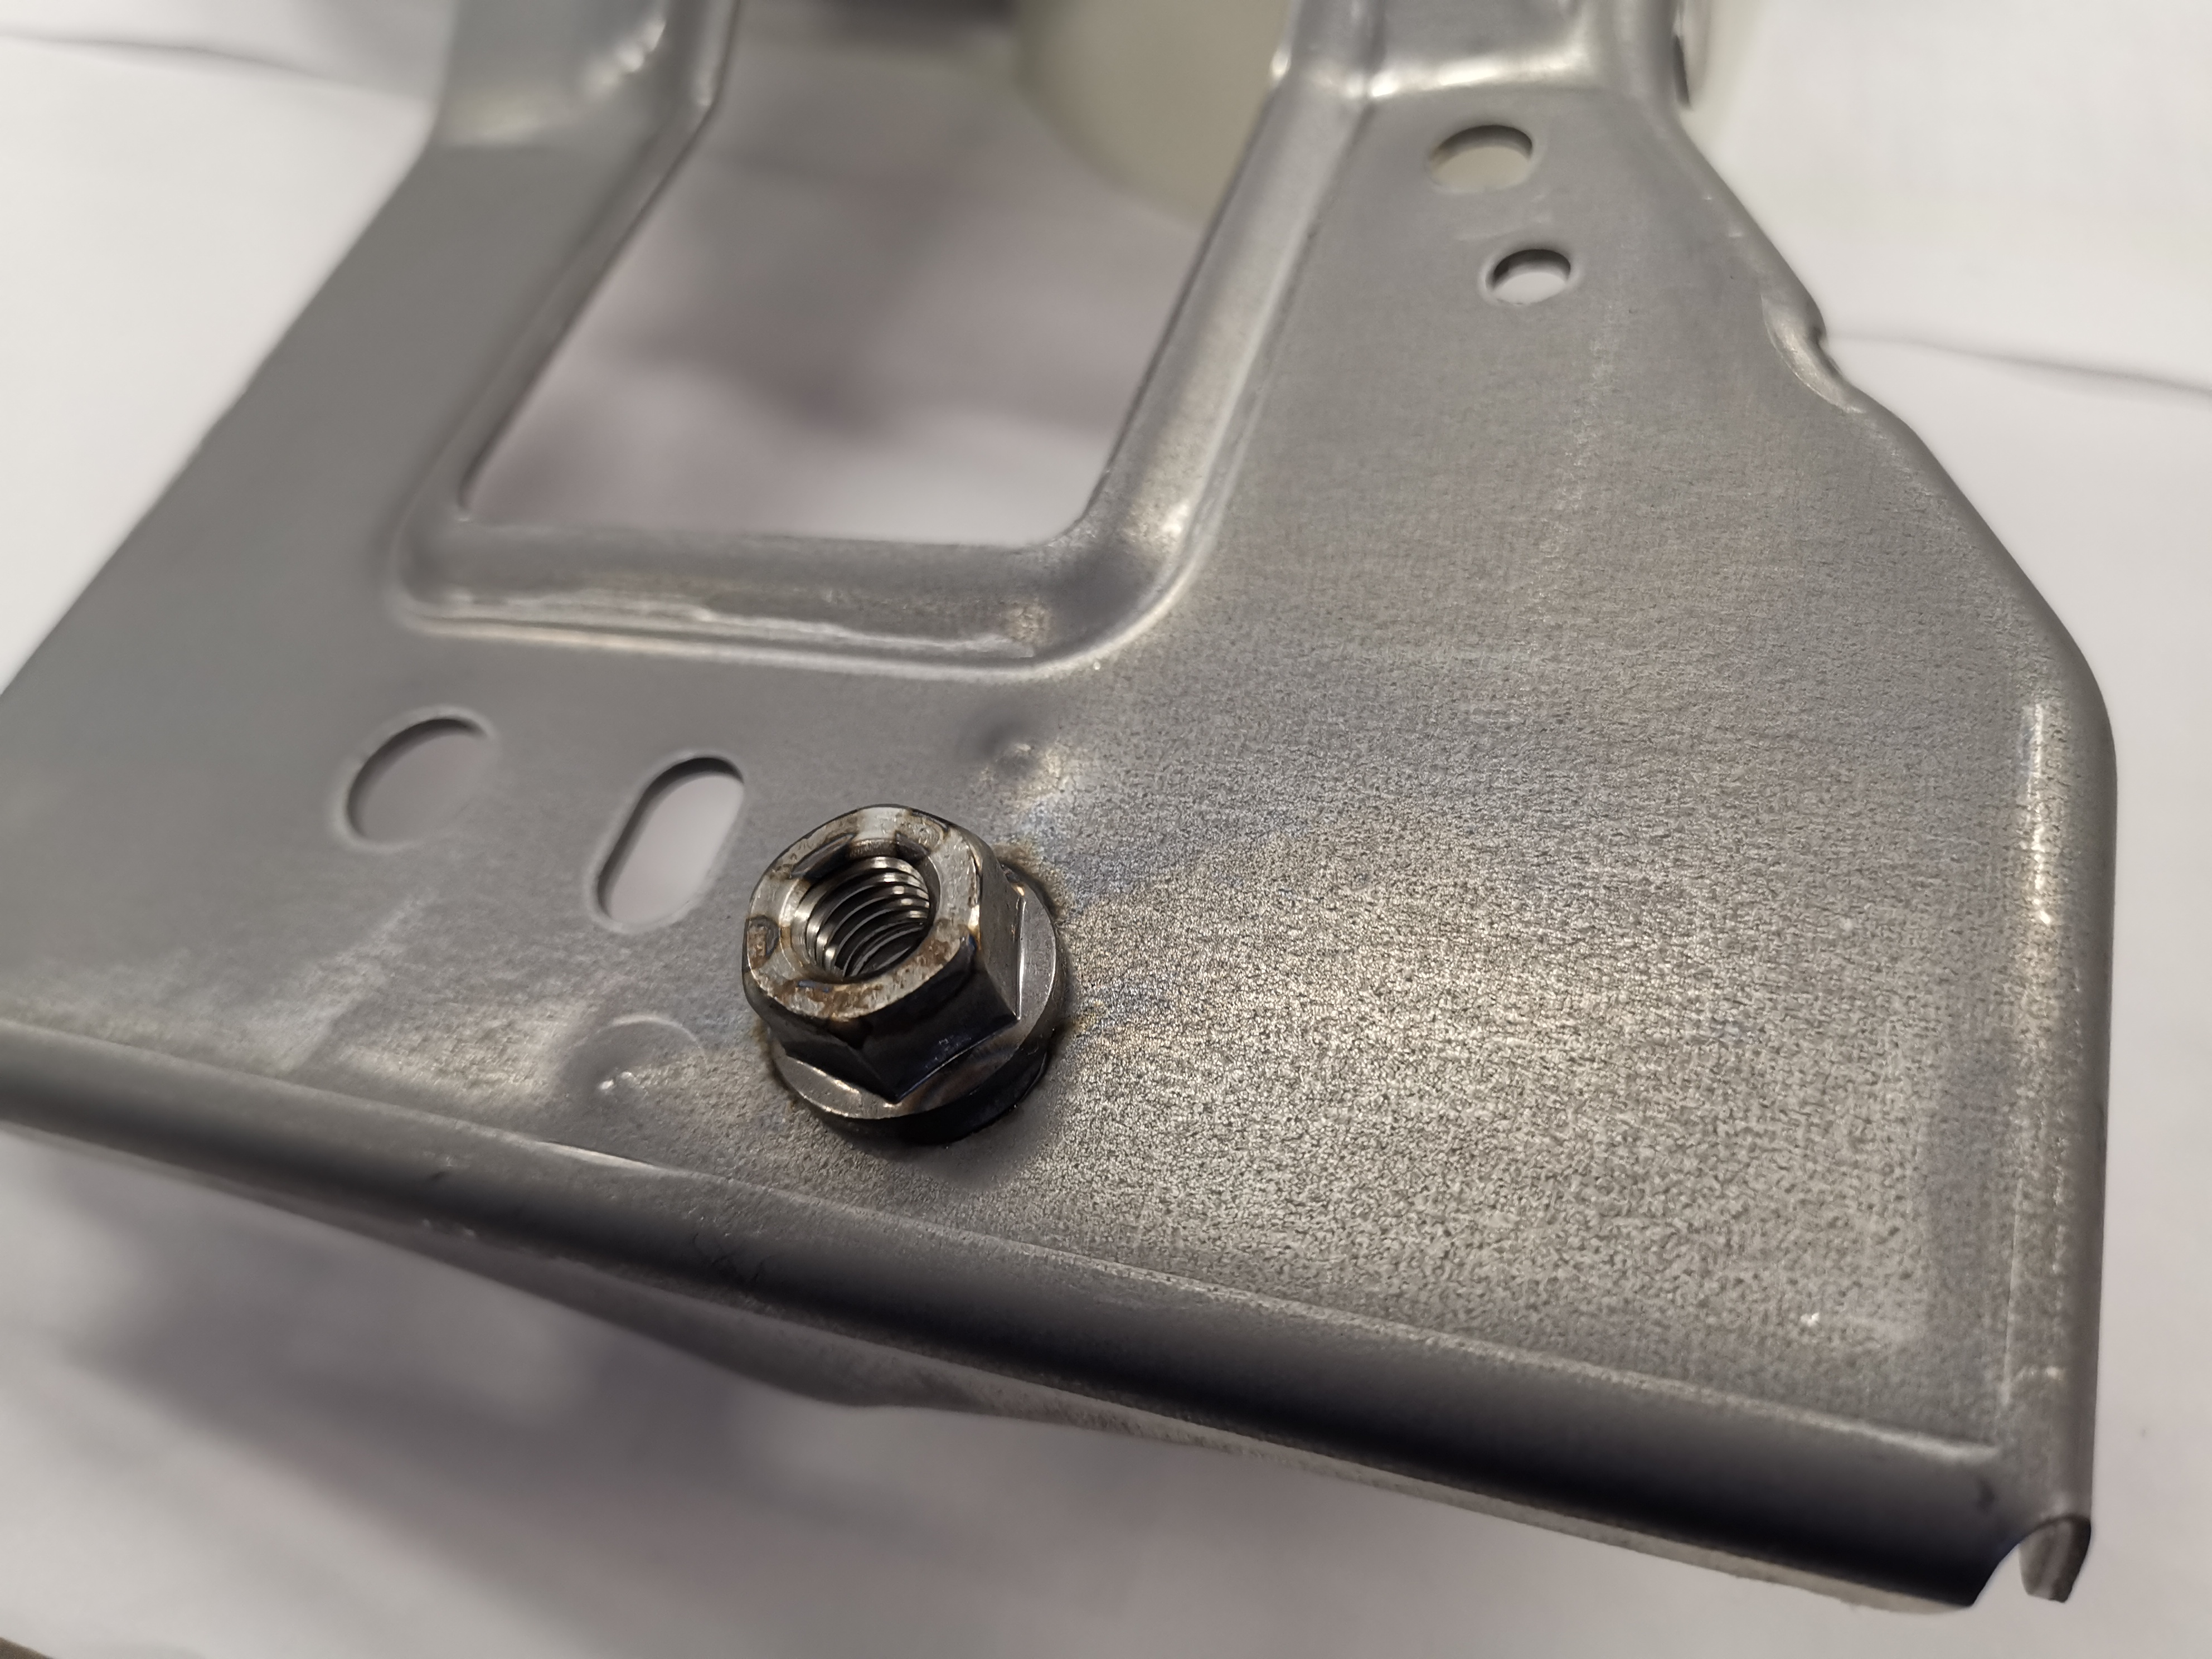dog: (735, 800, 1085, 1159)
